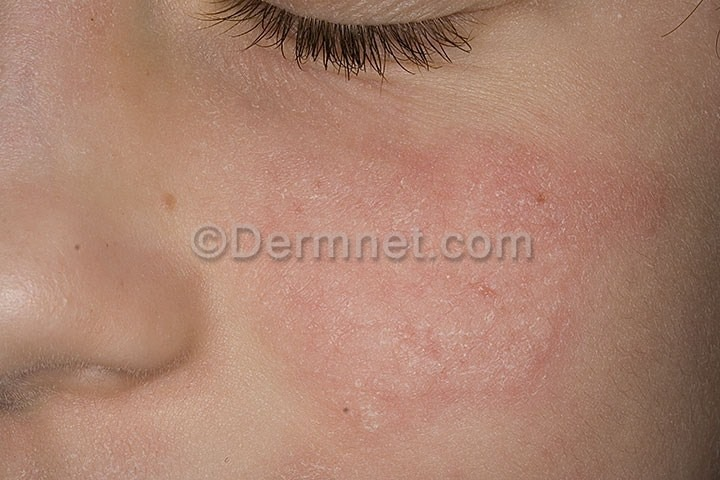Eczema: (228, 100, 682, 458)
